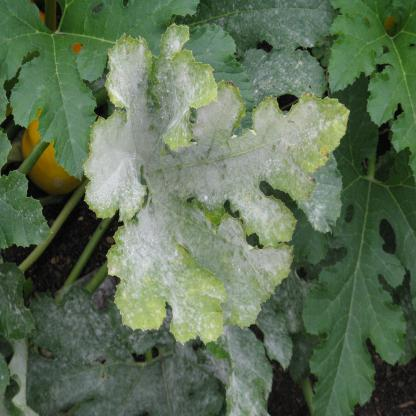Squash Powdery mildew leaf: (74, 16, 347, 340)
